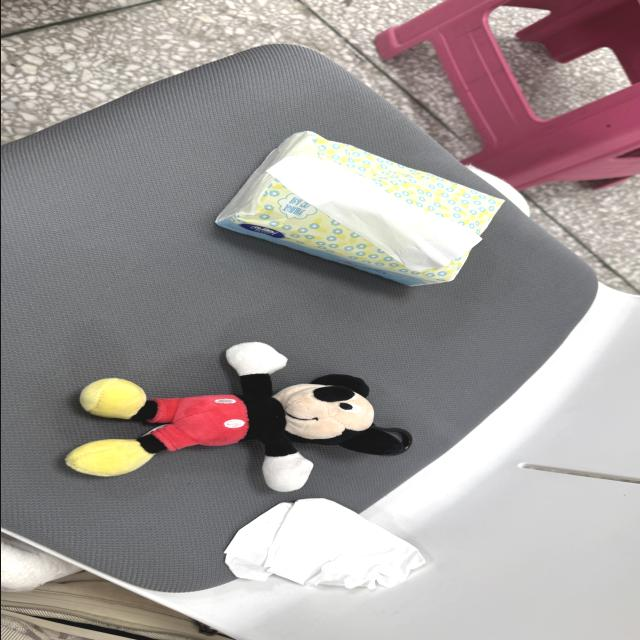mickey: (65, 343, 410, 491)
tissue: (216, 132, 502, 285), (268, 154, 480, 271), (225, 499, 424, 588), (224, 503, 291, 581), (1, 539, 81, 592), (466, 165, 529, 216)
